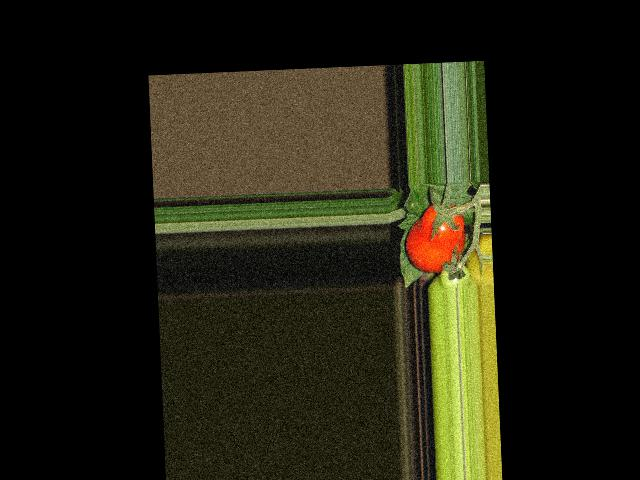tomato: (404, 202, 466, 273)
